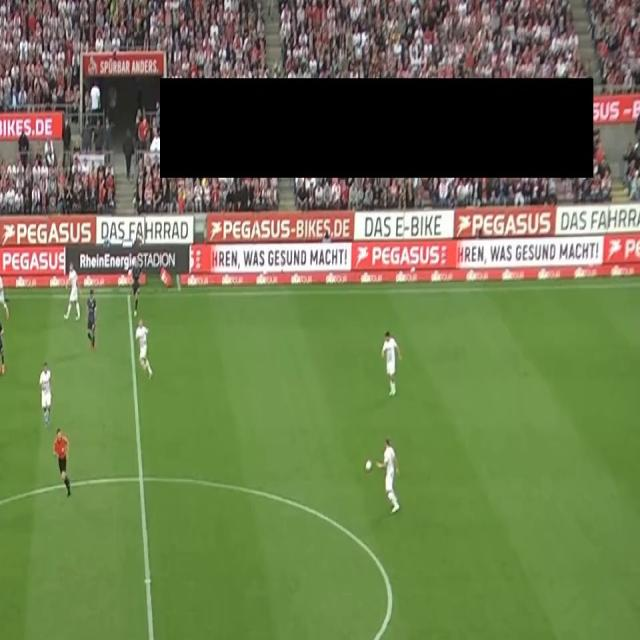ball: (364, 459, 373, 473)
